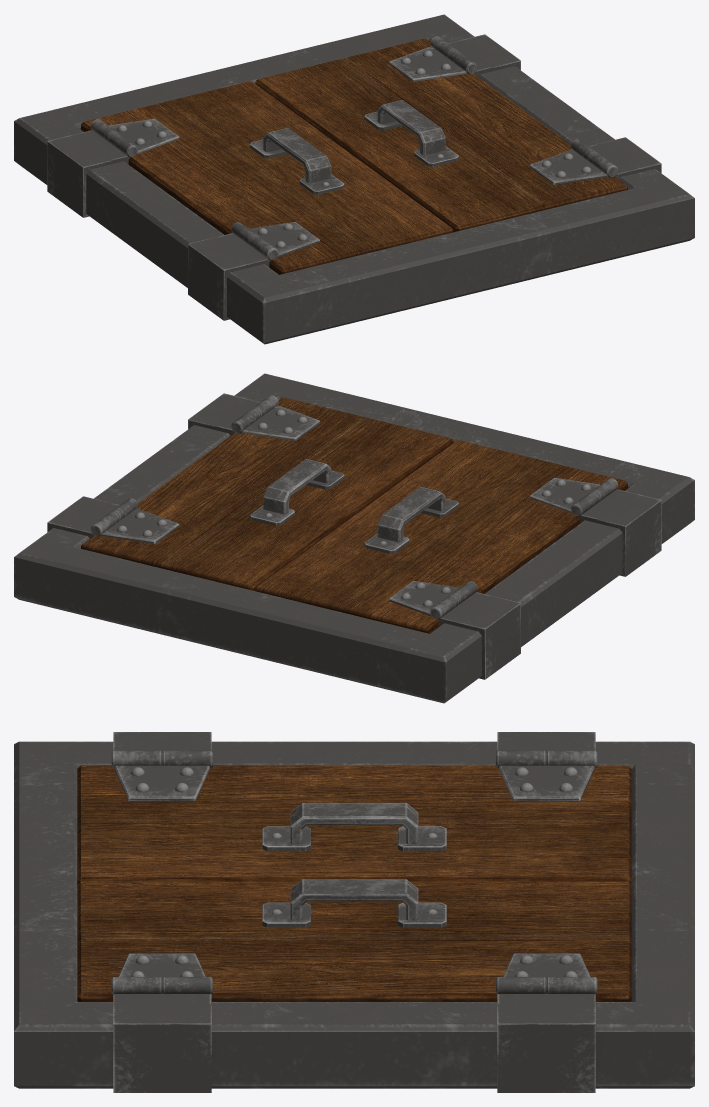
The model's file is Exit_Trapdoor_ForUnity.fbx.
3 views of the same model, one above another, from view 1: azimuth 30°, elevation 25°; view 2: azimuth 150°, elevation 25°; view 3: azimuth 270°, elevation 25° (orthographic). The views are drawn at different scales.
Visible parts, largest first — view 1: Main, DoorR, DoorL; view 2: Main, DoorR, DoorL; view 3: Main, DoorL, DoorR.
Part boxes in pixels (bbox=[...]): Main: bbox=[14, 14, 694, 344]; DoorR: bbox=[255, 36, 627, 231]; DoorL: bbox=[81, 81, 453, 274]; Main: bbox=[14, 373, 694, 703]; DoorR: bbox=[81, 395, 453, 590]; DoorL: bbox=[255, 440, 627, 633]; Main: bbox=[14, 732, 694, 1092]; DoorL: bbox=[77, 750, 631, 884]; DoorR: bbox=[77, 879, 631, 1001].
Bounding box in the file's own units: 0.0101 × 0.00161 × 0.01.
1 material, 1 textured.
